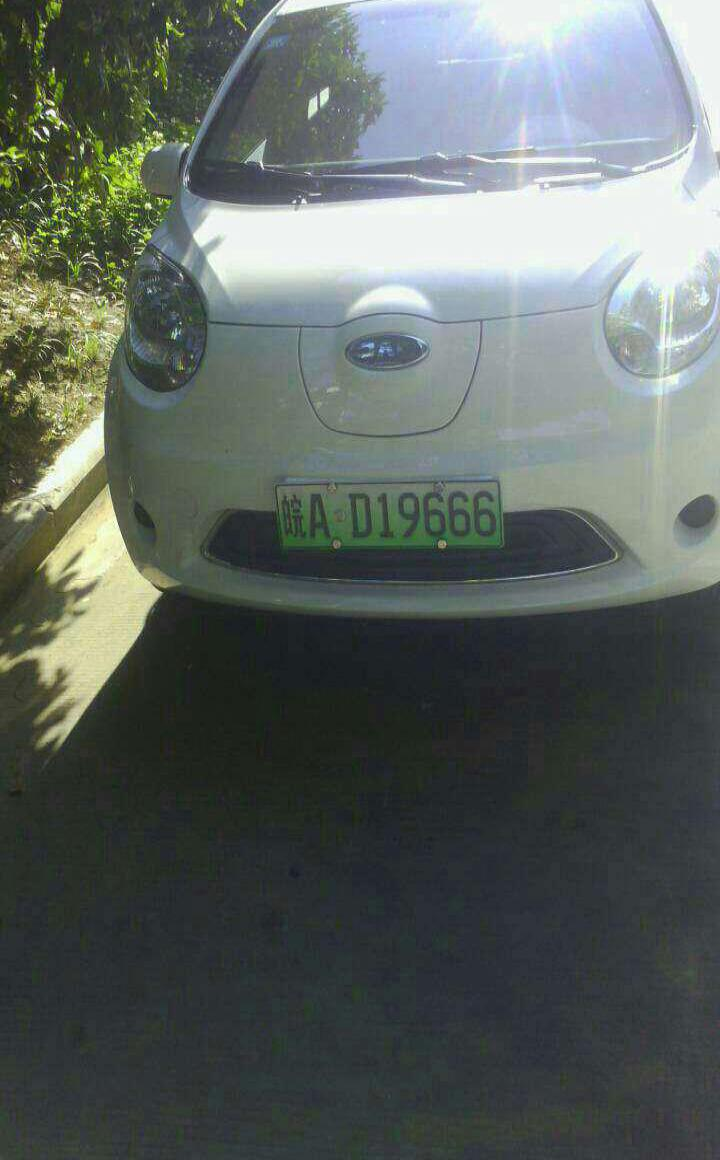car_green: (271, 479, 506, 557)
